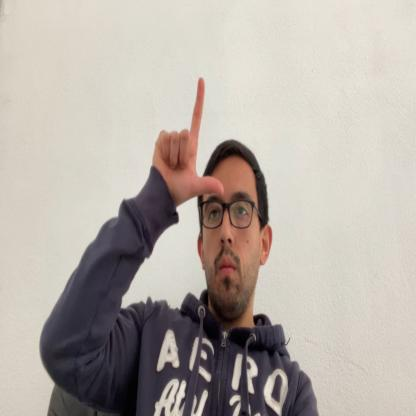L: (152, 77, 224, 207)
